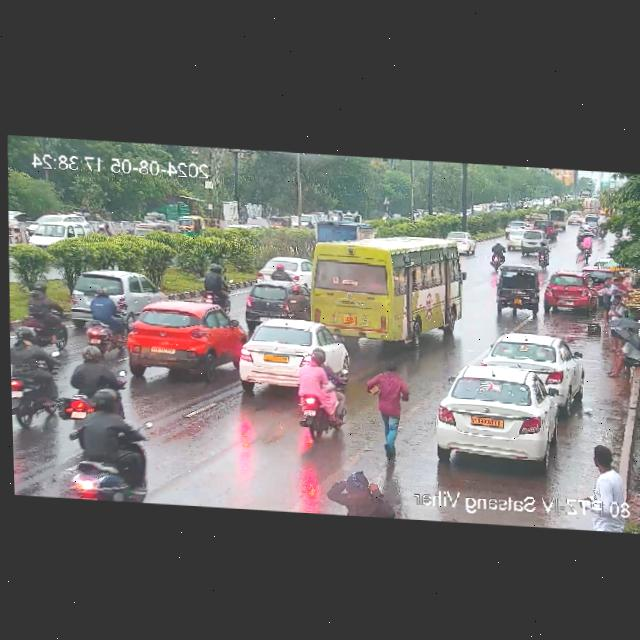bus: (299, 228, 465, 354)
car: (432, 363, 564, 464), (118, 296, 237, 376), (238, 314, 354, 392), (482, 330, 585, 400), (55, 267, 159, 316), (244, 281, 312, 321), (489, 263, 541, 315), (544, 272, 598, 314), (31, 218, 89, 250), (265, 253, 306, 283), (505, 227, 548, 252), (442, 233, 476, 256), (502, 220, 528, 233)
motorcycle: (58, 410, 154, 503), (10, 335, 67, 426), (299, 342, 344, 441), (67, 344, 129, 410), (22, 289, 72, 334), (79, 286, 125, 333), (195, 261, 237, 310), (486, 240, 509, 268), (572, 229, 595, 253), (535, 239, 549, 270), (547, 205, 567, 226), (582, 233, 593, 262), (272, 262, 289, 280)
person: (366, 352, 413, 460), (322, 468, 391, 518), (579, 439, 621, 500), (607, 336, 640, 377), (607, 293, 630, 320), (601, 272, 614, 291), (615, 275, 626, 292)
